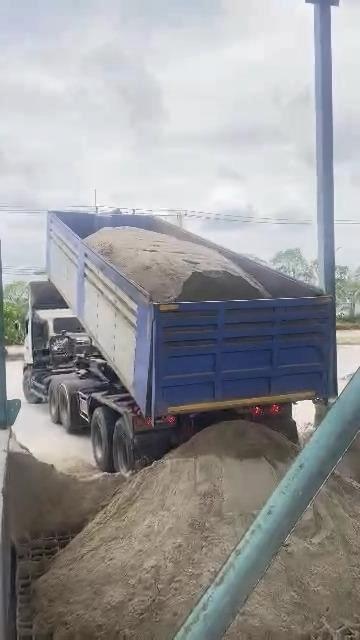sand: (36, 421, 295, 639), (227, 474, 359, 639), (86, 227, 270, 301), (6, 439, 124, 542), (338, 433, 360, 484)
